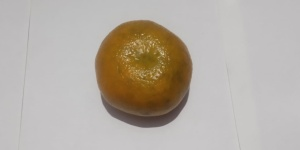BAD: (96, 18, 194, 127)
